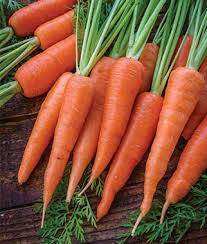carrot: (150, 52, 202, 231), (37, 66, 91, 226), (92, 51, 130, 202)
